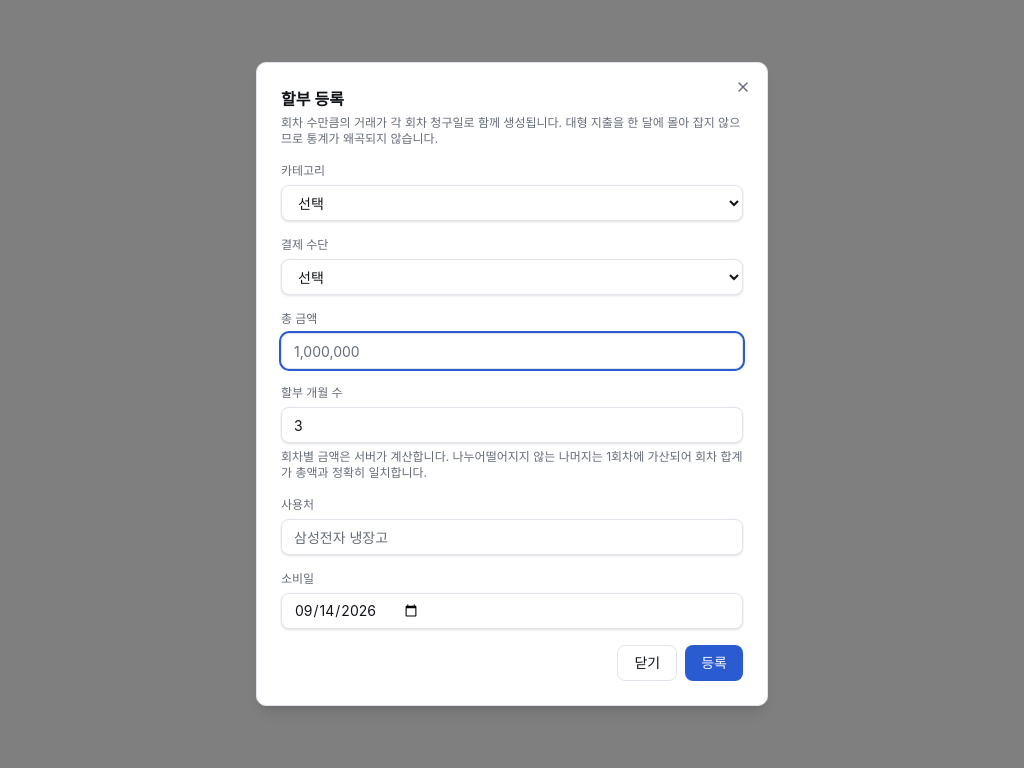
Test case: InstallmentFormDialog - 할부 등록 › 1개월은 할부가 아니라고 알린다
Replace the text in the number field labelled "할부 개월 수" with "1". click: (512, 425)
box: [281,407,743,443]
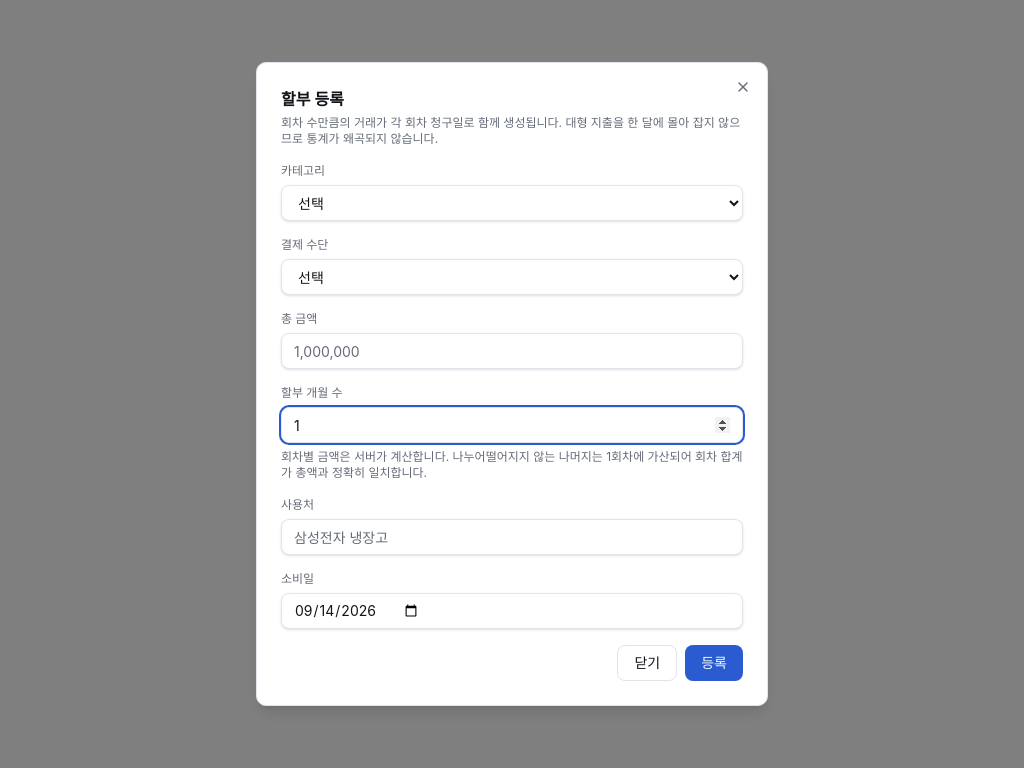
Click the button "등록". click: (714, 663)
box: [685,645,743,681]
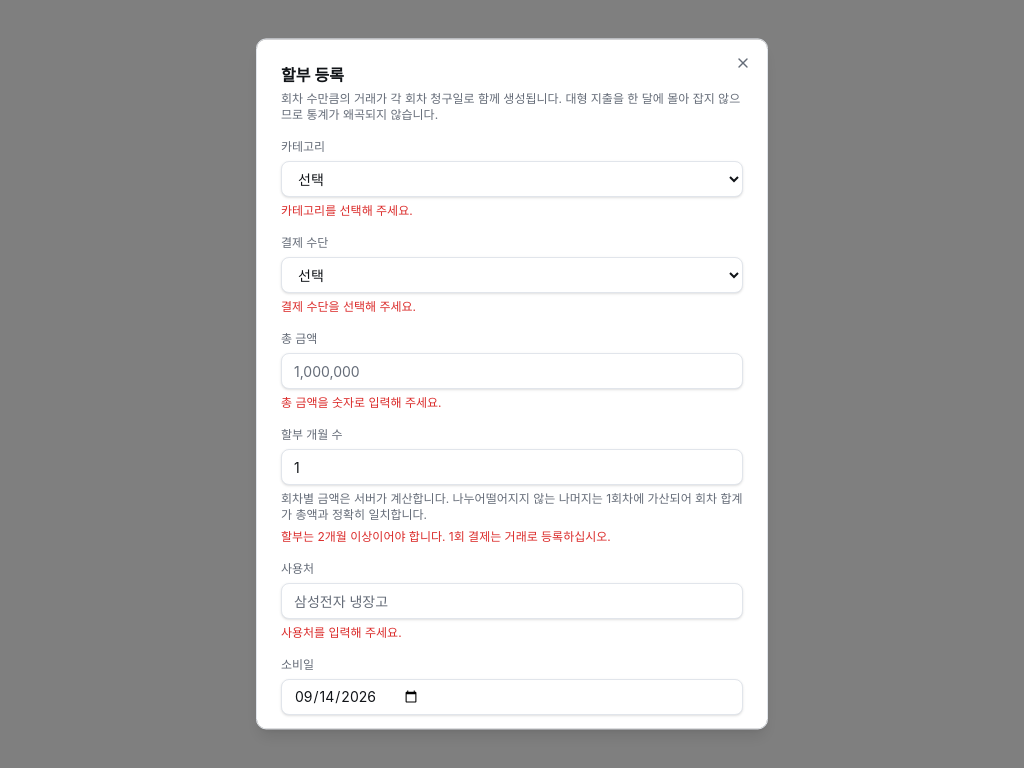
expect the text "할부는 2개월 이상이어야 합니다. 1회 결제는 거래로 등록하십시오." is shown: met, box [281,529,611,544]
